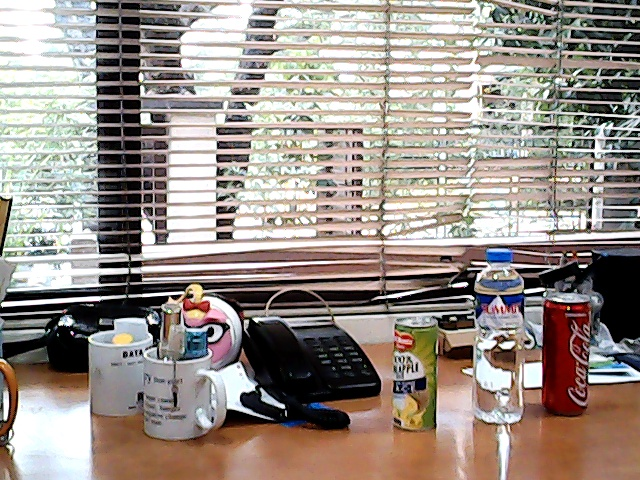Cola: (534, 281, 599, 422)
Pine Juice: (380, 311, 449, 443)
Summit Water: (461, 240, 538, 431)
